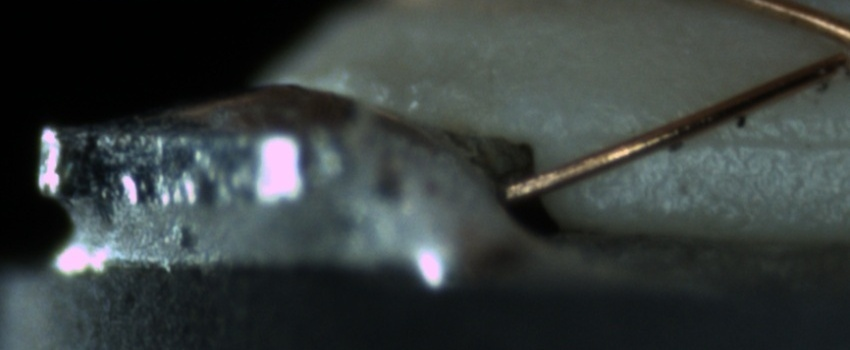CL: (804, 11, 850, 82)
DL: (609, 108, 849, 172)
